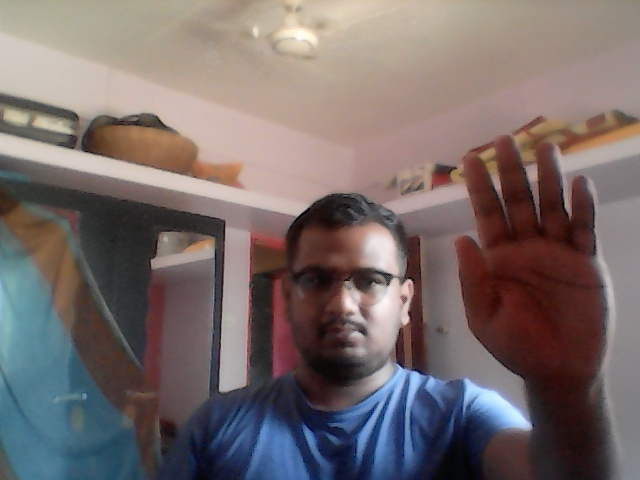Hello: (452, 126, 621, 380)
